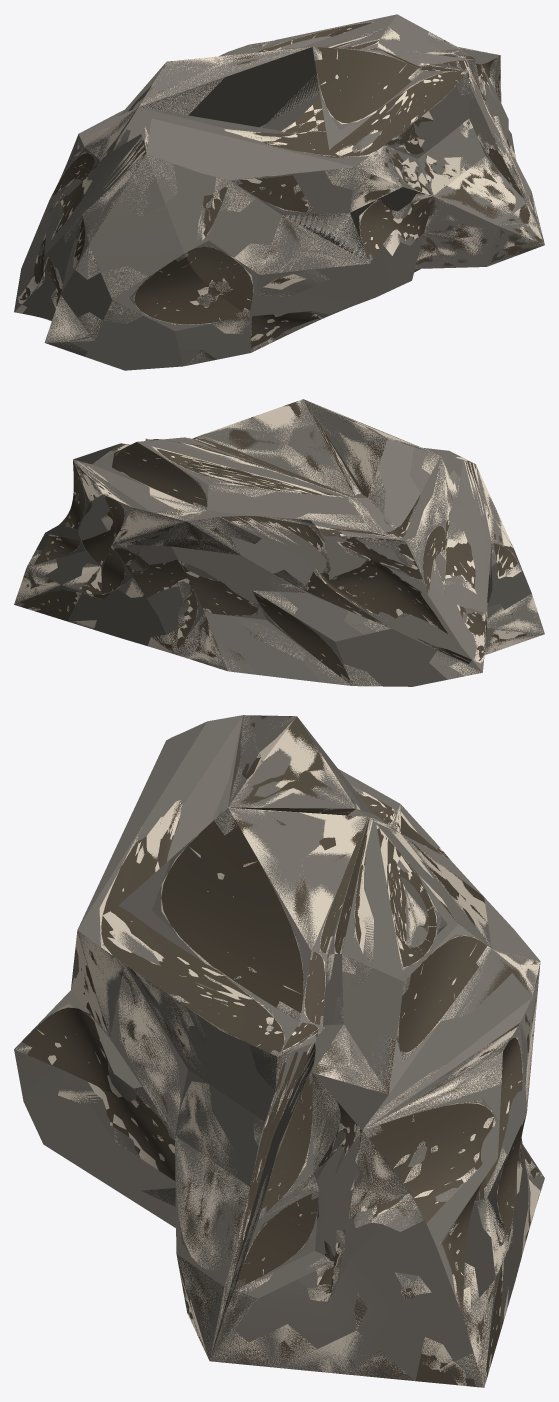
Rendered from rocks.fbx.
3 views of the same model, one above another, from view 1: azimuth 30°, elevation 25°; view 2: azimuth 150°, elevation 25°; view 3: azimuth 270°, elevation 25° (orthographic). The views are drawn at different scales.
Visible parts, largest first — view 1: rock1, rock5, rock2; view 2: rock1, rock5, rock2; view 3: rock1, rock5, rock2.
Boxes of the visible parts, x1,y1,x2,y2 form: rock1: (14, 14, 544, 370); rock5: (19, 22, 544, 360); rock2: (15, 22, 544, 365); rock1: (14, 399, 544, 686); rock5: (14, 401, 533, 685); rock2: (14, 400, 542, 686); rock1: (14, 715, 544, 1387); rock5: (21, 715, 539, 1387); rock2: (16, 715, 542, 1387).
Bounding box in the file's own units: 1960 × 910 × 1083.
